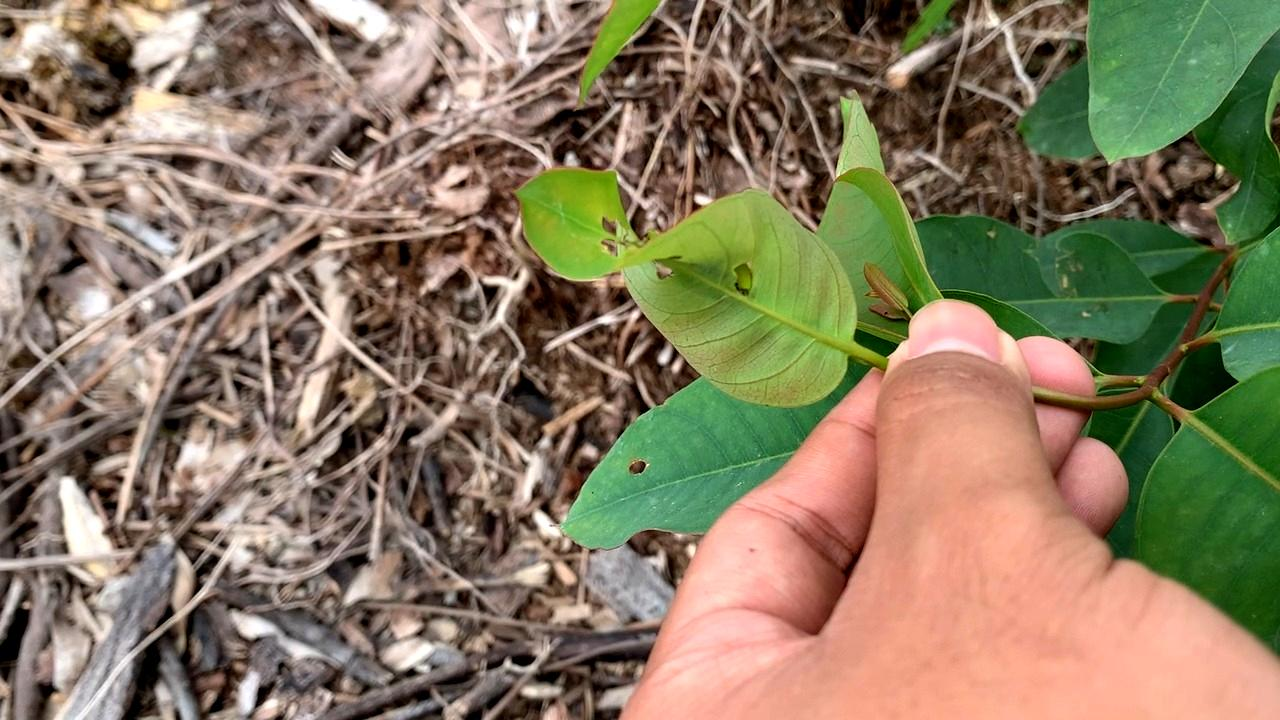Leaf Roller - Leaf: (515, 166, 850, 402)
